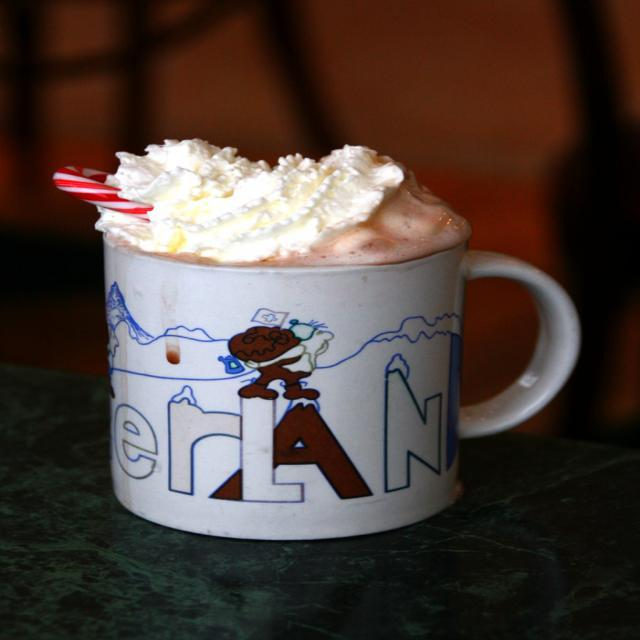Ice cream: (63, 127, 499, 275)
